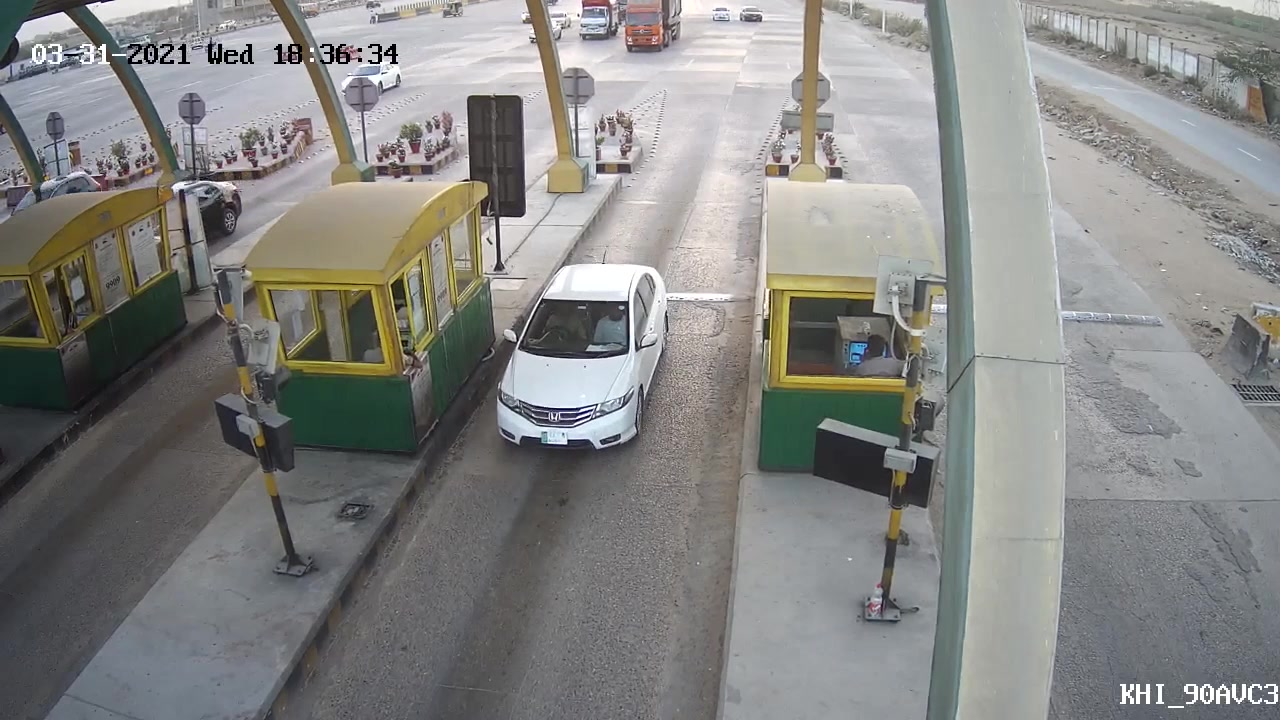F1: (487, 257, 679, 459)
